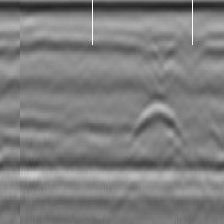Utility: (133, 100, 183, 145)
